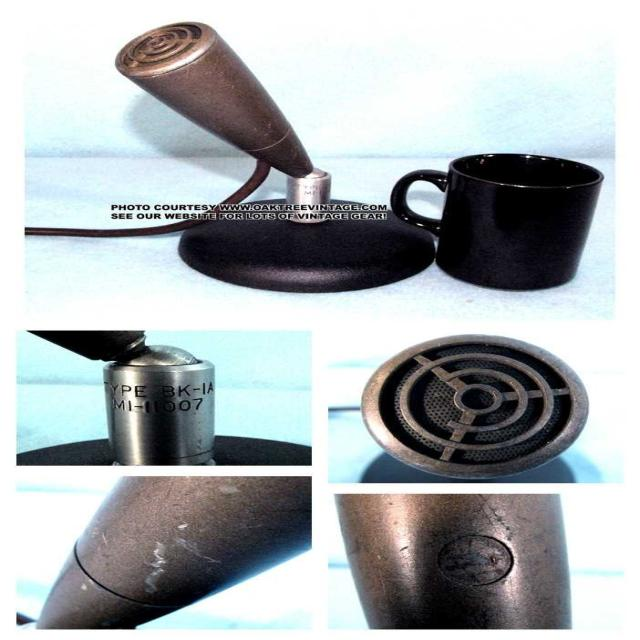microphone: (112, 24, 438, 293), (343, 324, 595, 480)
